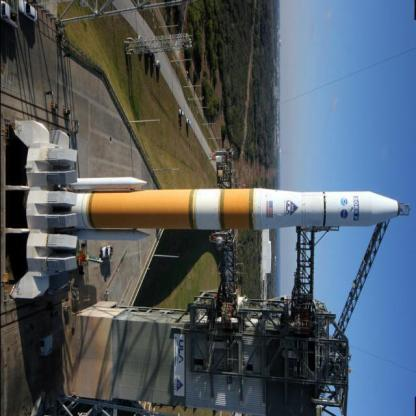MIL_TBM: (62, 184, 408, 229)
